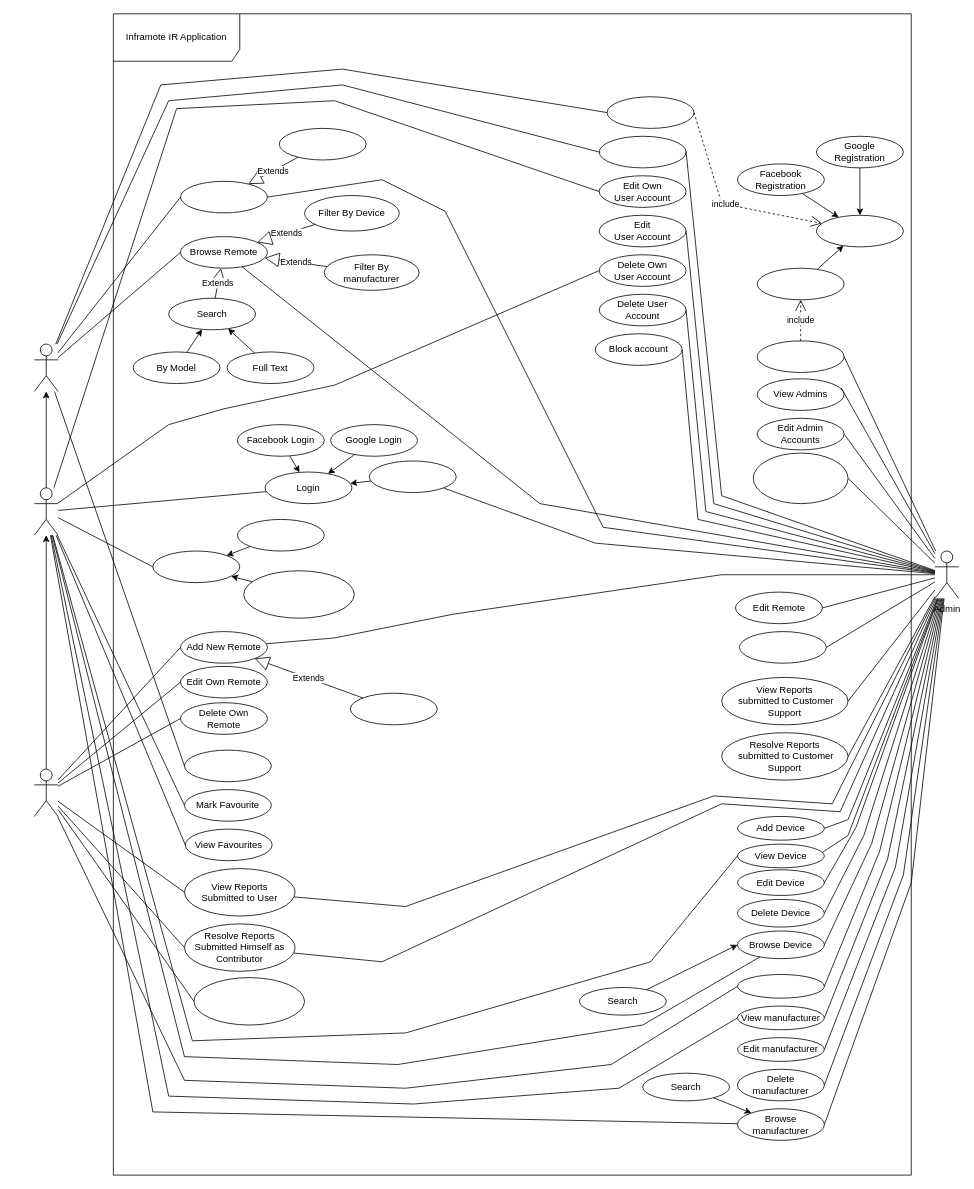
Some shapes in this 974 by 1189 pixel diagram are drawn without their labels. Each missing label, with the centre of its shape:
Account Holder: (x=46, y=511)
Add manufacturer: (x=780, y=986)
Consumer: (x=46, y=367)
Contributor: (x=46, y=792)
Create Admin Account: (x=800, y=356)
Create User Account: (x=650, y=112)
Delete Other's Admin Account: (x=800, y=478)
Delete Remote: (x=782, y=647)
Download Remote: (x=227, y=765)
Email Login: (x=412, y=476)
Email Registration: (x=800, y=283)
Like Reports Submitted to User: (x=249, y=1001)
Registration: (x=859, y=230)
Report Issue: (x=196, y=566)
Report to Customer Support: (x=298, y=594)
Report to User: (x=280, y=535)
Scan a QR Code: (x=393, y=708)
Use Remote: (x=322, y=144)
View Remote: (x=223, y=197)
View User: (x=642, y=151)
